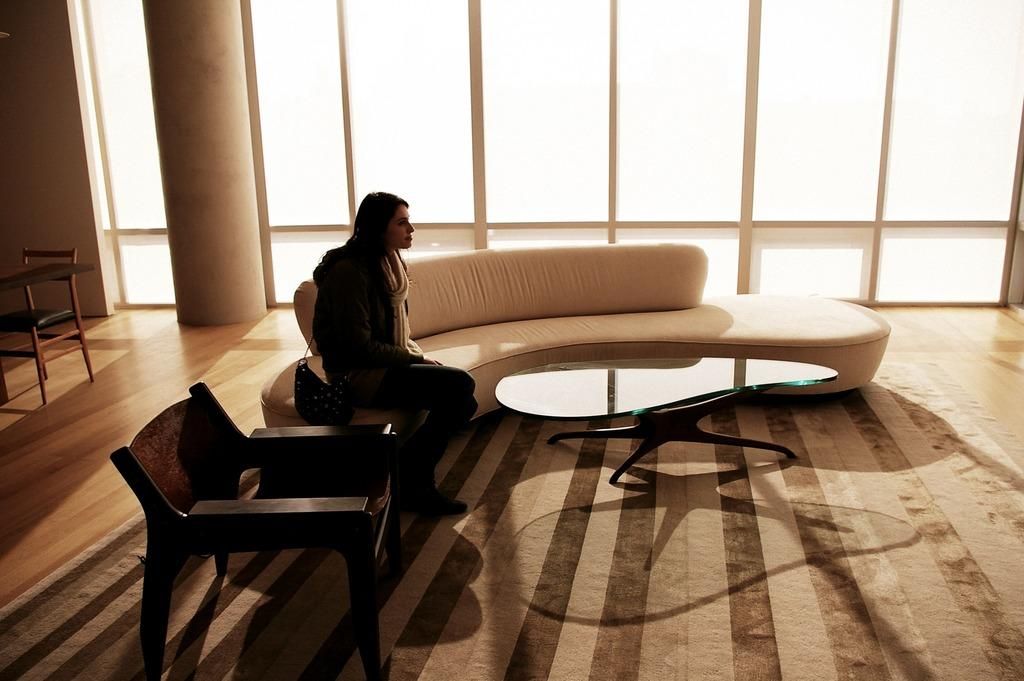Chair: (101, 334, 417, 668), (0, 248, 99, 406)
